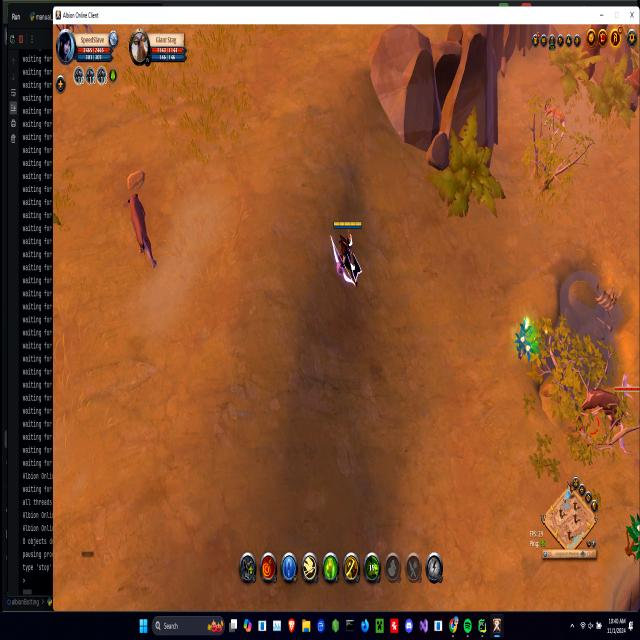hide: (514, 318, 539, 362), (627, 512, 639, 557)
ore: (572, 371, 638, 456), (125, 185, 158, 272), (540, 96, 568, 141)
red: (331, 218, 364, 291)
